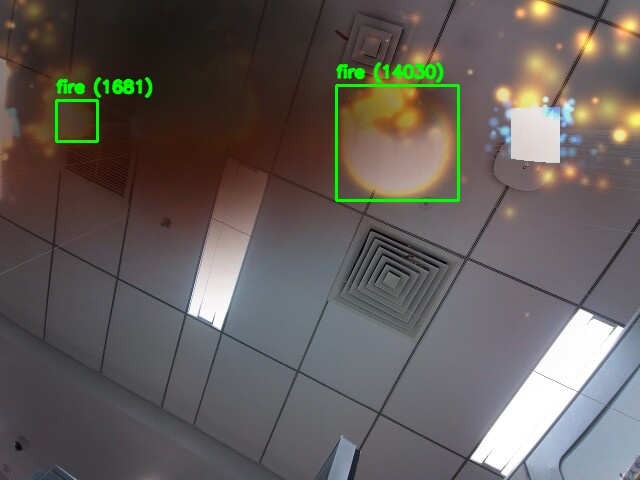fire: (336, 85, 458, 200), (56, 100, 97, 141)
